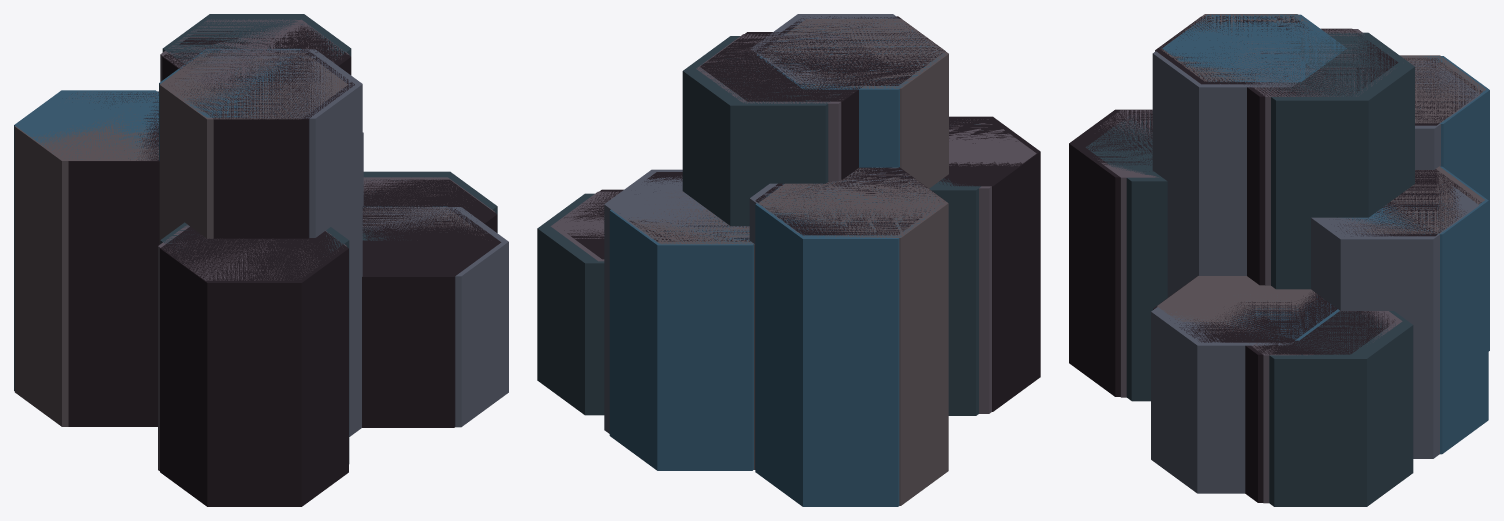
The model's file is mineral01.fbx.
3 renders of one model, left to right at view 1: azimuth 30°, elevation 25°; view 2: azimuth 150°, elevation 25°; view 3: azimuth 270°, elevation 25°, orthographic. The views are drawn at different scales.
Parts seen in each view (by area): view 1: CristalStalac.001, CristalStalac.004, CristalStalac, CristalStalac.002, CristalStalac.003, CristalStalac.005, CristalStalac.006; view 2: CristalStalac.003, CristalStalac, CristalStalac.006, CristalStalac.004, CristalStalac.001, CristalStalac.002, CristalStalac.005; view 3: CristalStalac.006, CristalStalac.002, CristalStalac.004, CristalStalac.003, CristalStalac, CristalStalac.001, CristalStalac.005.
Boxes of the visible parts, x1,y1,x2,y2 form: CristalStalac.001: [68, 50, 501, 427]; CristalStalac.004: [160, 26, 497, 506]; CristalStalac: [14, 50, 483, 426]; CristalStalac.002: [66, 49, 508, 436]; CristalStalac.003: [14, 48, 447, 390]; CristalStalac.005: [158, 19, 495, 470]; CristalStalac.006: [160, 14, 497, 463]; CristalStalac.003: [609, 21, 944, 506]; CristalStalac: [617, 19, 948, 505]; CristalStalac.006: [537, 36, 982, 415]; CristalStalac.004: [564, 32, 1040, 411]; CristalStalac.001: [629, 16, 944, 241]; CristalStalac.002: [604, 14, 938, 469]; CristalStalac.005: [550, 34, 1036, 413]; CristalStalac.006: [1085, 32, 1414, 506]; CristalStalac.002: [1151, 19, 1480, 493]; CristalStalac.004: [1069, 28, 1398, 502]; CristalStalac.003: [1162, 14, 1489, 454]; CristalStalac: [1157, 14, 1485, 336]; CristalStalac.001: [1153, 16, 1482, 342]; CristalStalac.005: [1098, 29, 1402, 503].
Bounding box in the file's own units: 380 × 313 × 355.
